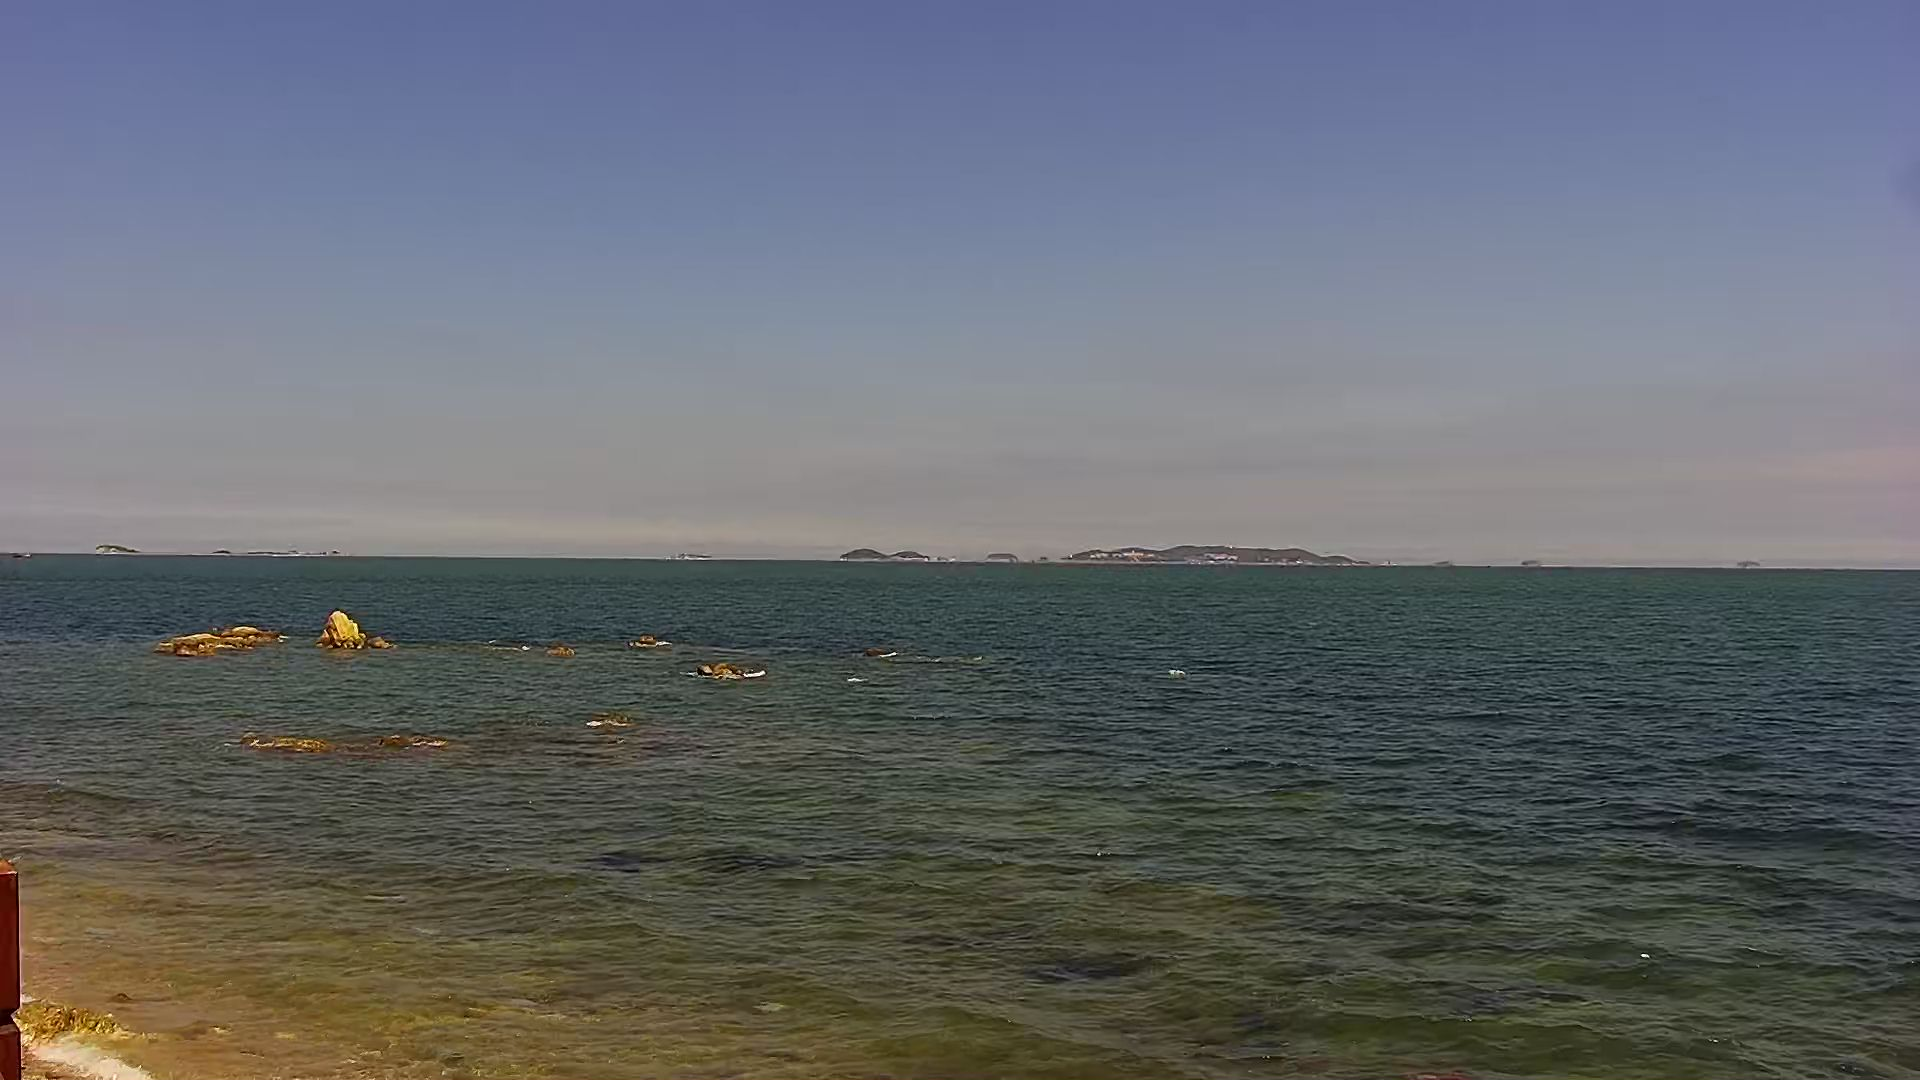rock: (1063, 530, 1390, 571), (153, 615, 303, 670), (314, 604, 414, 655), (208, 530, 360, 559), (375, 721, 469, 765), (243, 724, 336, 760), (657, 538, 748, 571), (580, 699, 657, 737), (688, 659, 777, 690), (510, 626, 579, 659), (620, 625, 684, 659), (83, 530, 152, 556), (825, 537, 895, 560), (852, 633, 913, 659), (891, 538, 957, 562), (985, 545, 1035, 571), (1729, 550, 1771, 578), (1515, 553, 1560, 572), (1429, 549, 1458, 575)
